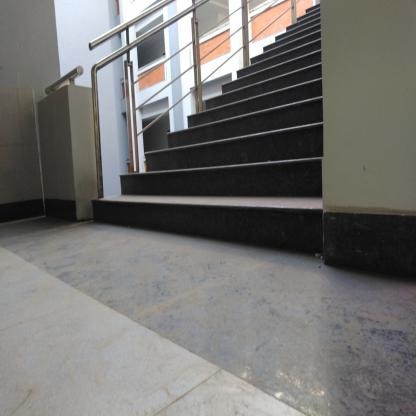stairs: (228, 63, 321, 262)
